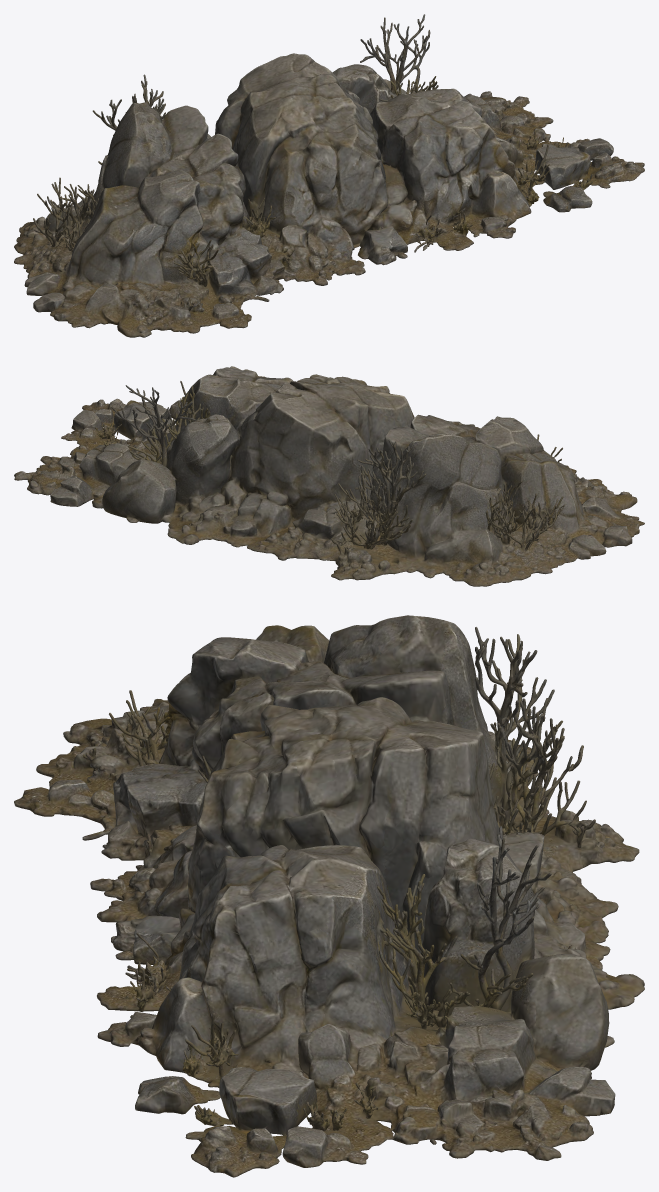
Rendered from rock_outcrop.glb.
3 views of the same model, one above another, from view 1: azimuth 30°, elevation 25°; view 2: azimuth 150°, elevation 25°; view 3: azimuth 270°, elevation 25° (orthographic). The views are drawn at different scales.
Visible parts, largest first — view 1: rock_outcrop; view 2: rock_outcrop; view 3: rock_outcrop.
Part boxes in pixels (<box>): rock_outcrop: <box>14,14,644,337</box>; rock_outcrop: <box>14,366,644,586</box>; rock_outcrop: <box>14,615,644,1177</box>.
Bounding box in the file's own units: 190 × 38.94 × 104.
Materials: 1 (1 with a texture image).
